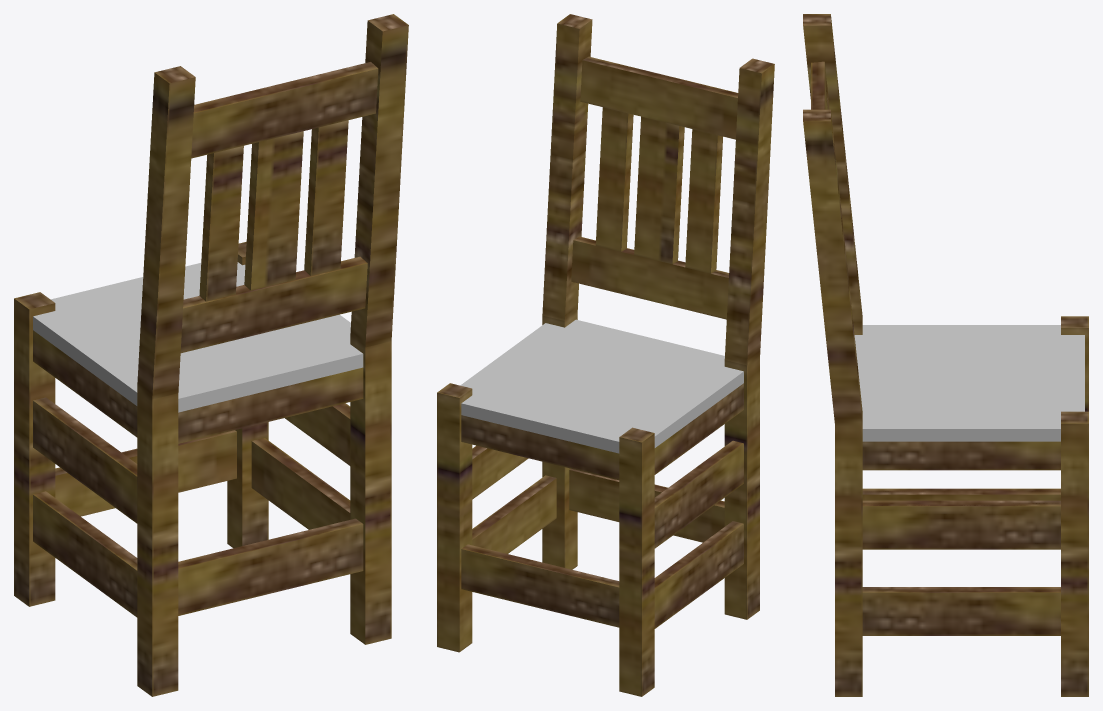
3 views of the same model, side by side, from view 1: azimuth 30°, elevation 25°; view 2: azimuth 150°, elevation 25°; view 3: azimuth 270°, elevation 25° (orthographic). The views are drawn at different scales.
Parts seen in each view (by area): view 1: mesh37_mesh37-geometry, mesh8_mesh8-geometry, mesh30_mesh30-geometry, mesh41_mesh41-geometry, mesh22_mesh22-geometry, mesh1_mesh1-geometry, mesh26_mesh26-geometry, mesh39_mesh39-geometry, mesh28_mesh28-geometry, mesh24_mesh24-geometry, mesh15_mesh15-geometry, mesh43_mesh43-geometry; view 2: mesh37_mesh37-geometry, mesh22_mesh22-geometry, mesh8_mesh8-geometry, mesh41_mesh41-geometry, mesh30_mesh30-geometry, mesh1_mesh1-geometry, mesh15_mesh15-geometry, mesh26_mesh26-geometry, mesh28_mesh28-geometry, mesh24_mesh24-geometry, mesh39_mesh39-geometry, mesh43_mesh43-geometry; view 3: mesh22_mesh22-geometry, mesh30_mesh30-geometry, mesh37_mesh37-geometry, mesh41_mesh41-geometry, mesh15_mesh15-geometry, mesh39_mesh39-geometry, mesh8_mesh8-geometry, mesh1_mesh1-geometry.
Boxes of the visible parts, <box> form: mesh37_mesh37-geometry: <box>33,62,378,617</box>; mesh8_mesh8-geometry: <box>137,66,195,696</box>; mesh30_mesh30-geometry: <box>350,14,408,644</box>; mesh41_mesh41-geometry: <box>33,256,367,529</box>; mesh22_mesh22-geometry: <box>33,262,363,412</box>; mesh1_mesh1-geometry: <box>14,292,55,606</box>; mesh26_mesh26-geometry: <box>244,131,303,290</box>; mesh39_mesh39-geometry: <box>178,367,363,443</box>; mesh28_mesh28-geometry: <box>304,120,348,275</box>; mesh24_mesh24-geometry: <box>199,146,243,301</box>; mesh15_mesh15-geometry: <box>227,241,268,548</box>; mesh43_mesh43-geometry: <box>33,330,137,437</box>; mesh37_mesh37-geometry: <box>461,56,743,628</box>; mesh22_mesh22-geometry: <box>460,319,743,453</box>; mesh8_mesh8-geometry: <box>724,58,774,619</box>; mesh41_mesh41-geometry: <box>472,236,743,553</box>; mesh30_mesh30-geometry: <box>542,14,592,569</box>; mesh1_mesh1-geometry: <box>619,427,654,696</box>; mesh15_mesh15-geometry: <box>437,383,472,652</box>; mesh26_mesh26-geometry: <box>634,116,684,264</box>; mesh28_mesh28-geometry: <box>595,107,633,251</box>; mesh24_mesh24-geometry: <box>685,129,722,273</box>; mesh39_mesh39-geometry: <box>461,415,619,480</box>; mesh43_mesh43-geometry: <box>654,383,743,474</box>; mesh22_mesh22-geometry: <box>854,325,1084,441</box>; mesh30_mesh30-geometry: <box>803,109,862,696</box>; mesh37_mesh37-geometry: <box>811,61,1060,549</box>; mesh41_mesh41-geometry: <box>862,587,1060,635</box>; mesh15_mesh15-geometry: <box>1061,411,1088,696</box>; mesh39_mesh39-geometry: <box>862,441,1060,470</box>; mesh8_mesh8-geometry: <box>803,14,862,334</box>; mesh1_mesh1-geometry: <box>1061,316,1088,411</box>.
Size of the model in its own units: 0.3427 by 0.8567 by 0.3855.
